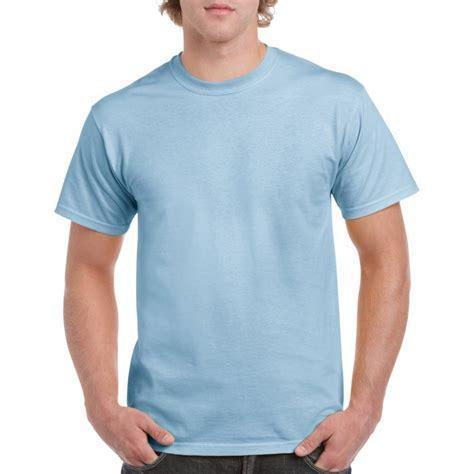Tshirt: (56, 45, 418, 458)
